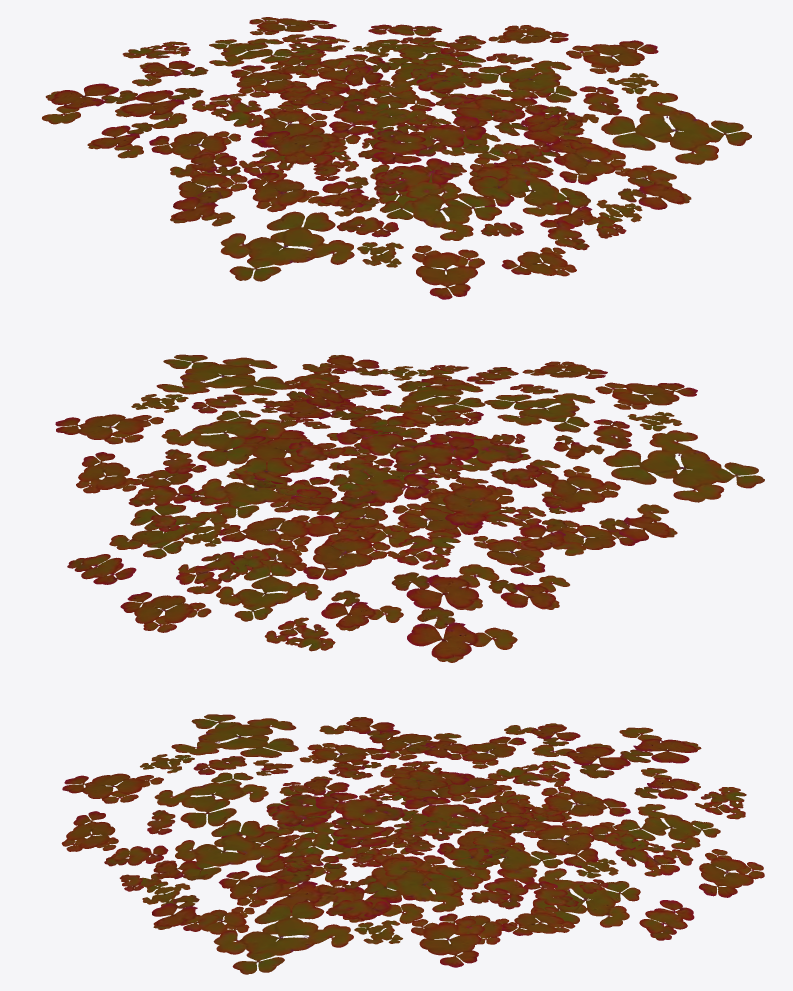
3 renders of one model, top to bottom at view 1: azimuth 30°, elevation 25°; view 2: azimuth 150°, elevation 25°; view 3: azimuth 270°, elevation 25°, orthographic. The views are drawn at different scales.
Parts seen in each view (by area): view 1: SM_DR_WoodSorrel_03_LOD0; view 2: SM_DR_WoodSorrel_03_LOD0; view 3: SM_DR_WoodSorrel_03_LOD0.
Part boxes in pixels (left/top/right/bottom): SM_DR_WoodSorrel_03_LOD0: left=42, top=17, right=751, bottom=299; SM_DR_WoodSorrel_03_LOD0: left=55, top=354, right=764, bottom=662; SM_DR_WoodSorrel_03_LOD0: left=61, top=714, right=764, bottom=974.
Size of the model in its own units: 1.2 by 0.1006 by 1.31.
1 material, 1 textured.
